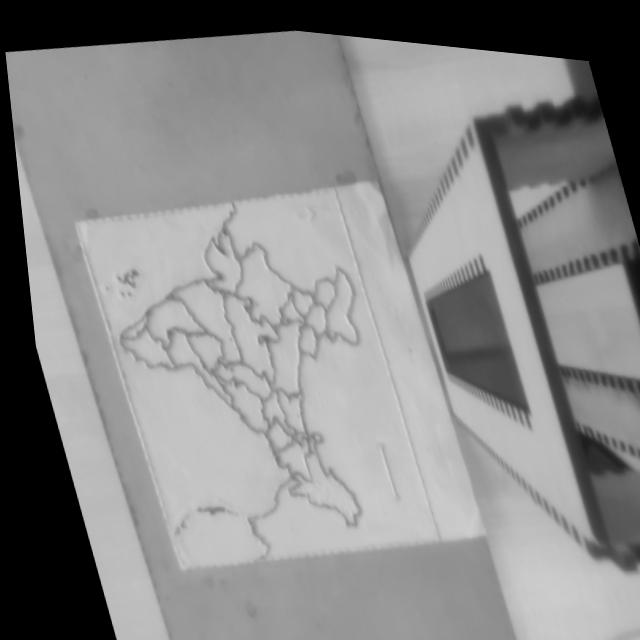map: (75, 148, 440, 615)
